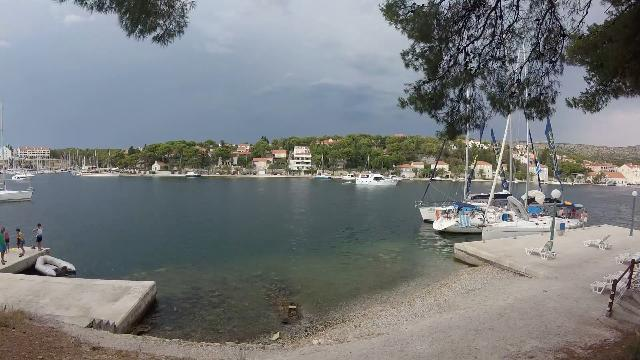ferry: (349, 166, 405, 190)
speedboat: (8, 168, 38, 182)
